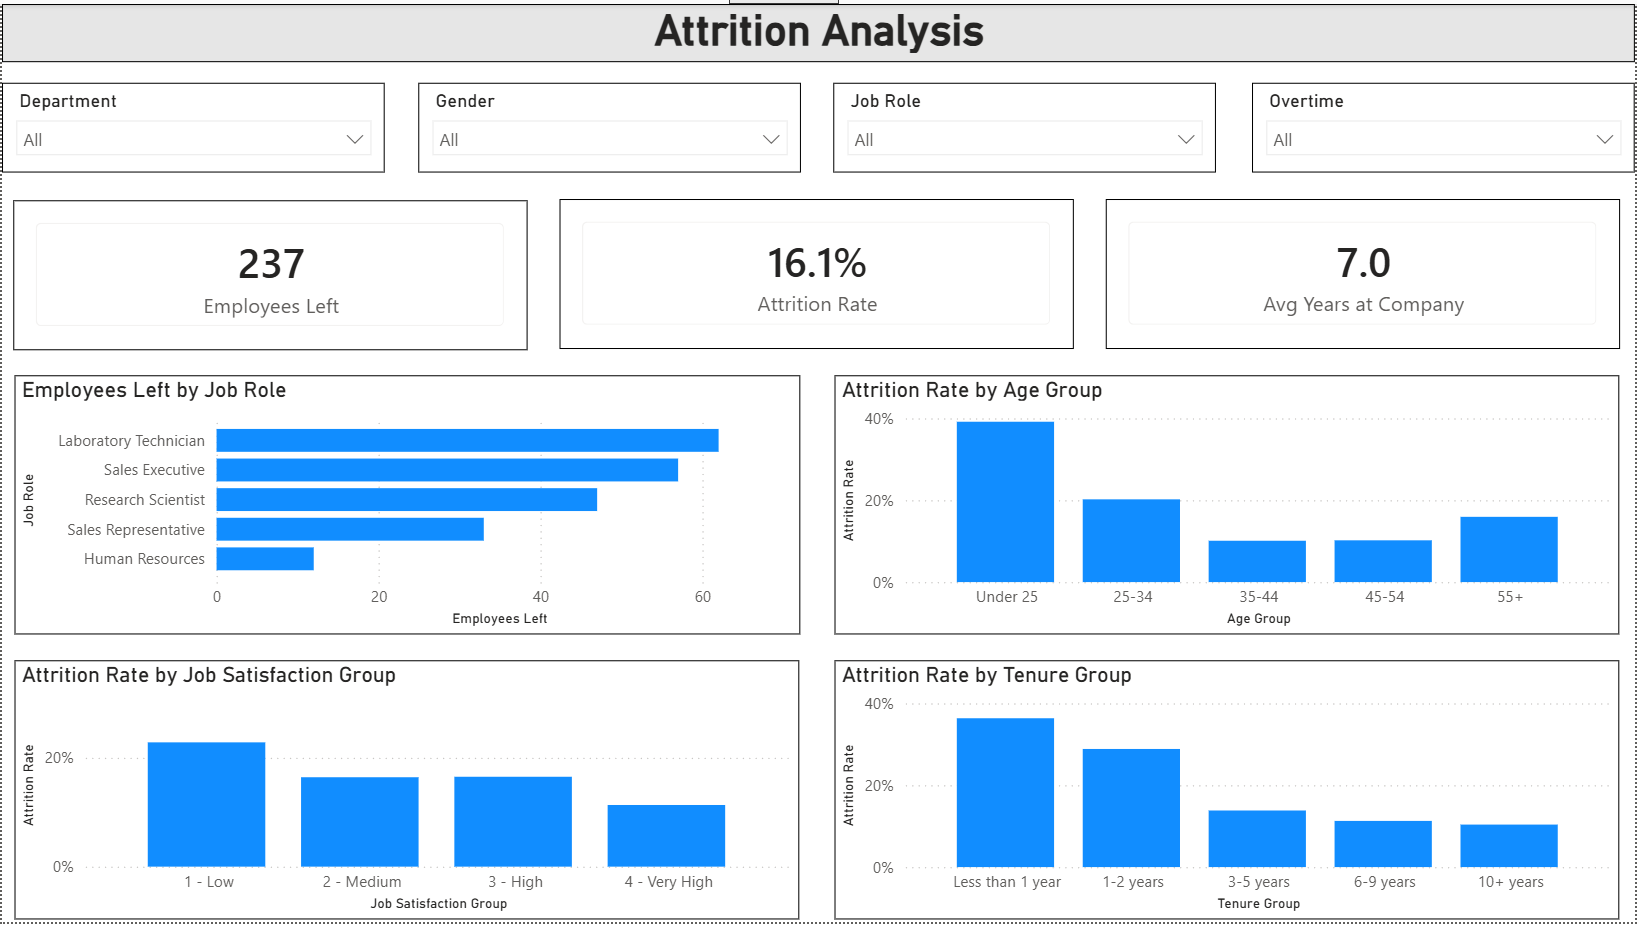

This screenshot's page, from the dashboard's own definition file:
{"tool":"powerbi","page":{"name":"Attrition Analysis","canvas":[1280,720],"ordinal":1},"visuals":[{"type":"textbox","title":"Attrition Analysis","box":[0,0,1280,45.6],"z":0},{"type":"slicer","fields":{"Values":["HR Data.Department"]},"box":[0,62,300,70],"z":1000},{"type":"slicer","fields":{"Values":["HR Data.Gender"]},"box":[326,62,300,70],"z":2000},{"type":"slicer","fields":{"Values":["HR Data.Job Role"]},"box":[652,62,300,70],"z":3000},{"type":"slicer","fields":{"Values":["HR Data.Overtime"]},"box":[980.2,62,300,70],"z":4000},{"type":"cardVisual","fields":{"Data":["Measures (3).Employees Left"]},"box":[9.3,153.5,403.5,117.4],"z":5000},{"type":"cardVisual","fields":{"Data":["Measures (3).Attrition Rate"]},"box":[437.2,153,403.5,117.4],"z":6000},{"type":"cardVisual","fields":{"Data":["Measures (3).Average Years at Company Display"]},"box":[865,153,403,117.4],"z":7000},{"type":"clusteredBarChart","fields":{"Y":["Measures (3).Employees Left"],"Category":["HR Data.Job Role"]},"box":[9.5,291,616.1,203],"z":8000},{"type":"clusteredColumnChart","fields":{"Y":["Measures (3).Attrition Rate"],"Category":["HR Data.Age Group"]},"box":[652.2,291.1,615.6,203.3],"z":9000},{"type":"clusteredColumnChart","fields":{"Y":["Measures (3).Attrition Rate"],"Category":["HR Data.Tenure Group"]},"box":[652.2,514.4,615.6,203.3],"z":10000},{"type":"clusteredColumnChart","fields":{"Y":["Measures (3).Attrition Rate"],"Category":["HR Data.Job Satisfaction Group"]},"box":[10,514.4,615.6,203],"z":11000}]}

Visuals, with their boxes in screenshot pixels (x1, y1, x2, y2), scaled from the page's 1280x720 canvas onto the 1637x925 screenshot:
"Attrition Analysis" textbox: (0, 0, 1636, 59)
slicer - HR Data.Department: (0, 80, 384, 170)
slicer - HR Data.Gender: (417, 80, 801, 170)
slicer - HR Data.Job Role: (834, 80, 1218, 170)
slicer - HR Data.Overtime: (1254, 80, 1636, 170)
cardVisual - Measures (3).Employees Left: (12, 197, 528, 348)
cardVisual - Measures (3).Attrition Rate: (559, 197, 1075, 347)
cardVisual - Measures (3).Average Years at Company Display: (1106, 197, 1622, 347)
clusteredBarChart - Measures (3).Employees Left x HR Data.Job Role: (12, 374, 800, 635)
clusteredColumnChart - Measures (3).Attrition Rate x HR Data.Age Group: (834, 374, 1621, 635)
clusteredColumnChart - Measures (3).Attrition Rate x HR Data.Tenure Group: (834, 661, 1621, 922)
clusteredColumnChart - Measures (3).Attrition Rate x HR Data.Job Satisfaction Group: (13, 661, 800, 922)
